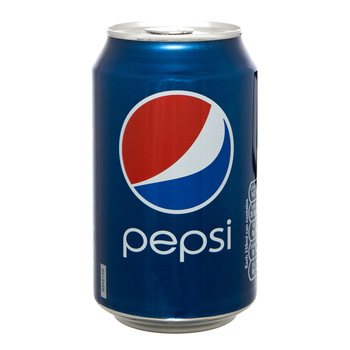pepsi: (110, 89, 234, 211), (118, 88, 234, 213), (118, 89, 234, 213), (118, 89, 234, 211)
